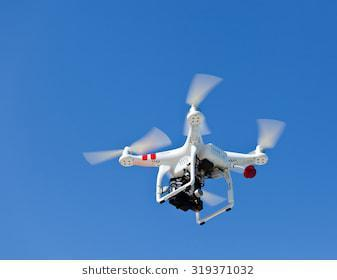drone: (73, 71, 286, 228)
